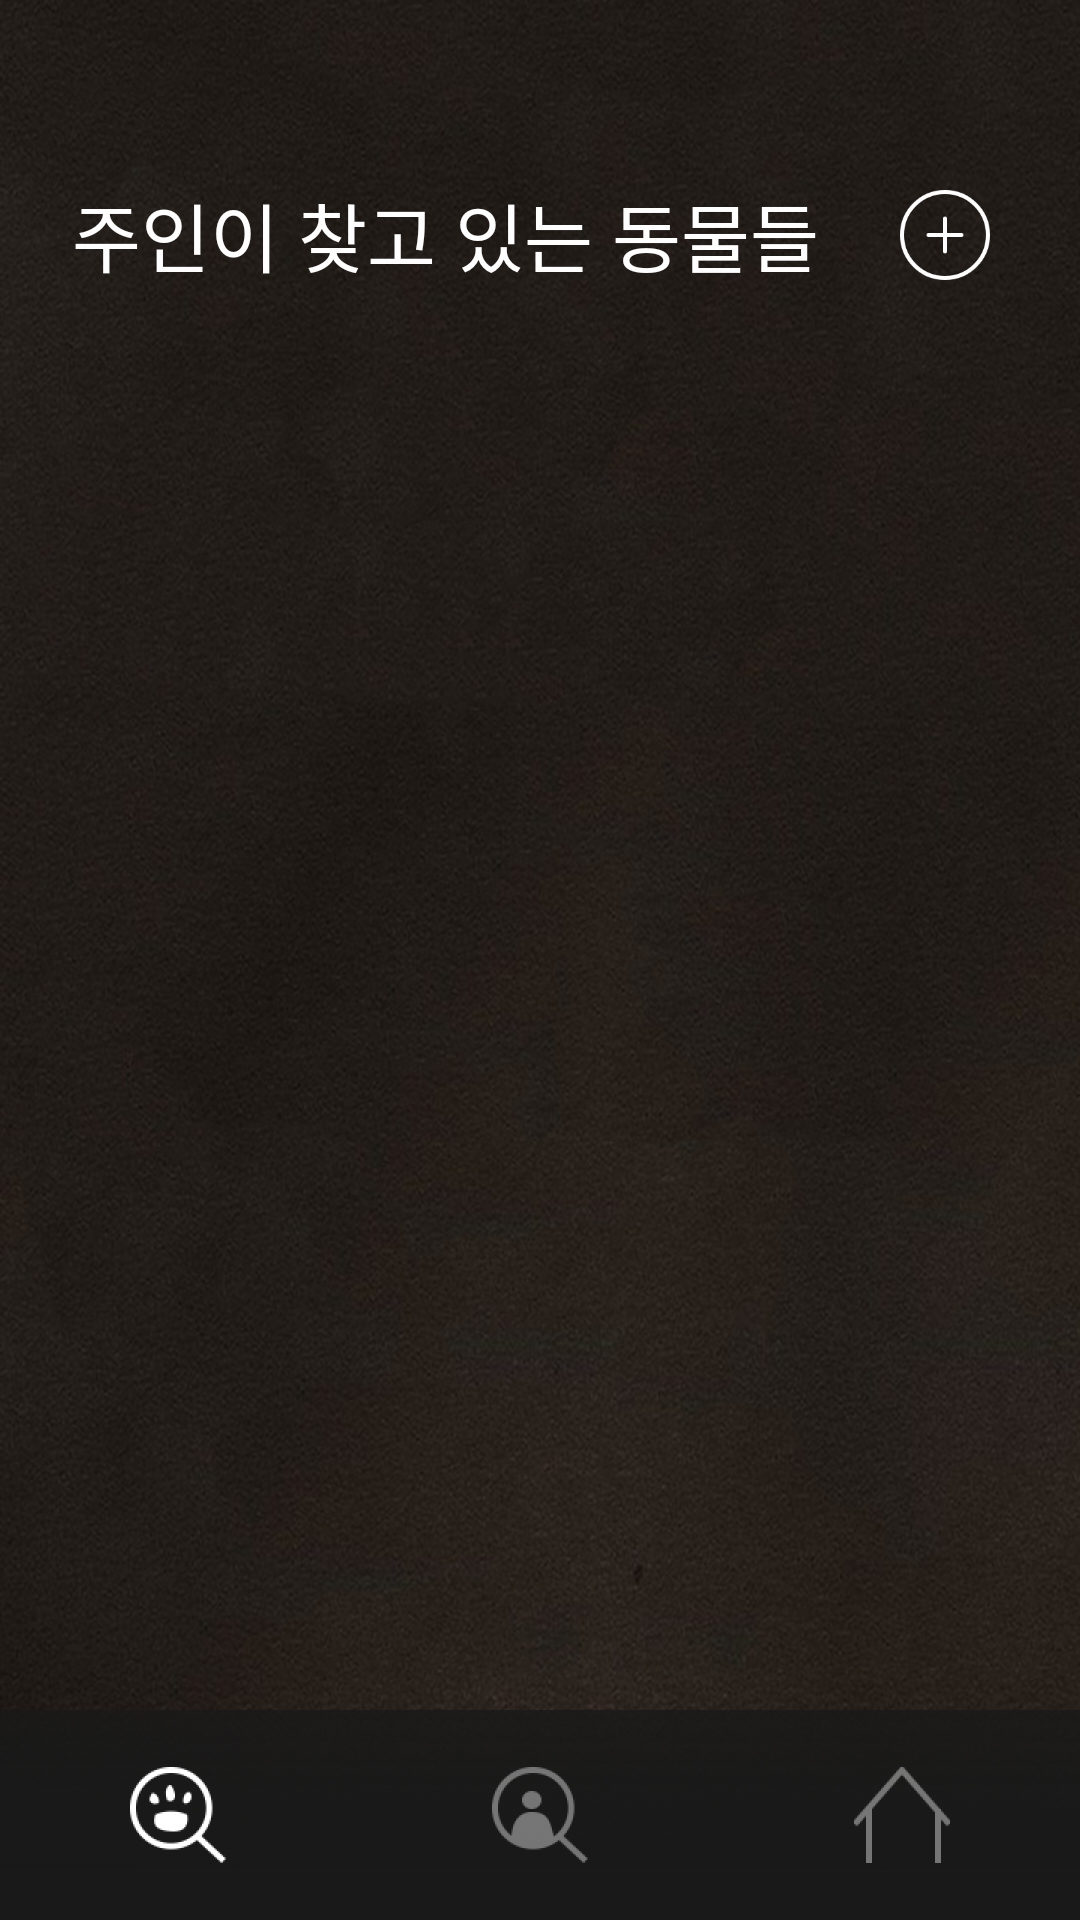

Icon bounding boxes for this 1080x1920 phone screenshot, format Rect(x1, y1, x2, y2):
plus: Rect(900, 190, 990, 280)
